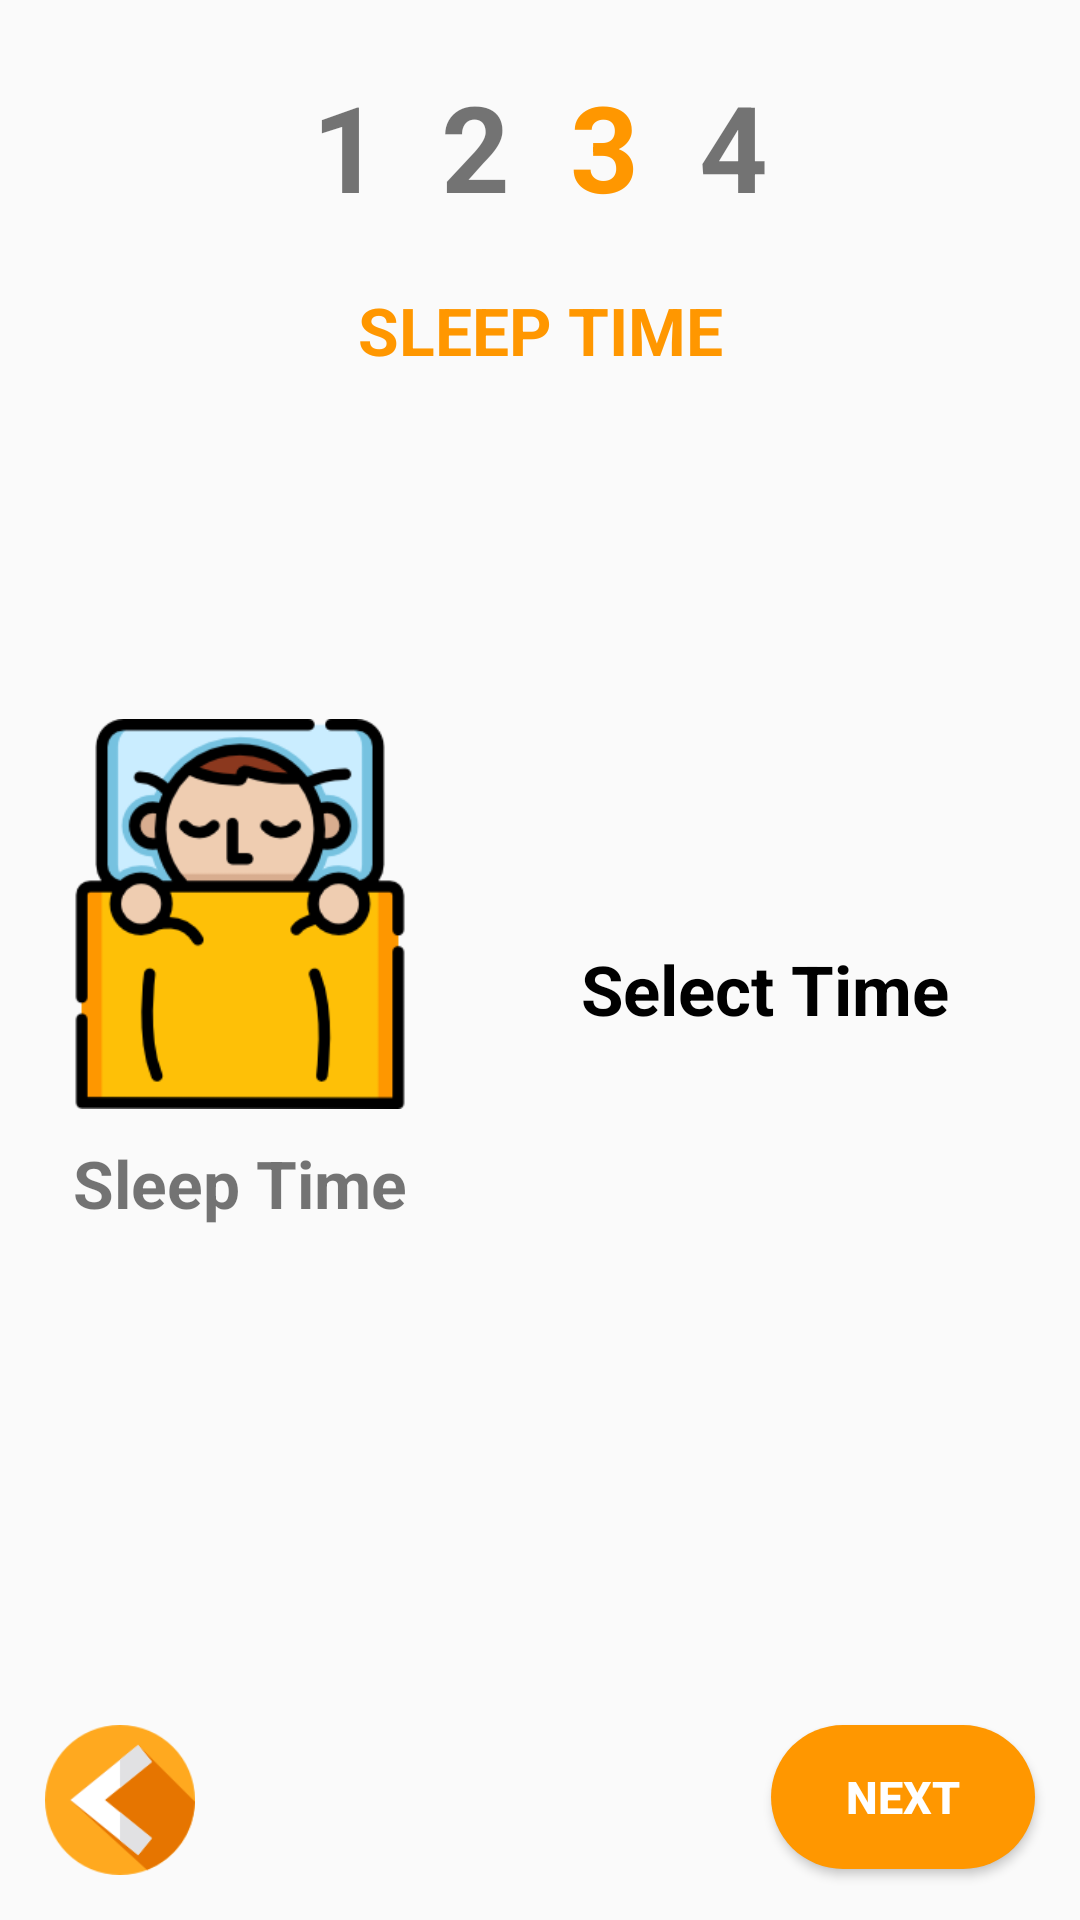

Icons on this 1080px x 1920px Android screen, each with its box as bbox(x1, y1, x2, y2):
left arrow: bbox(45, 1725, 195, 1875)
